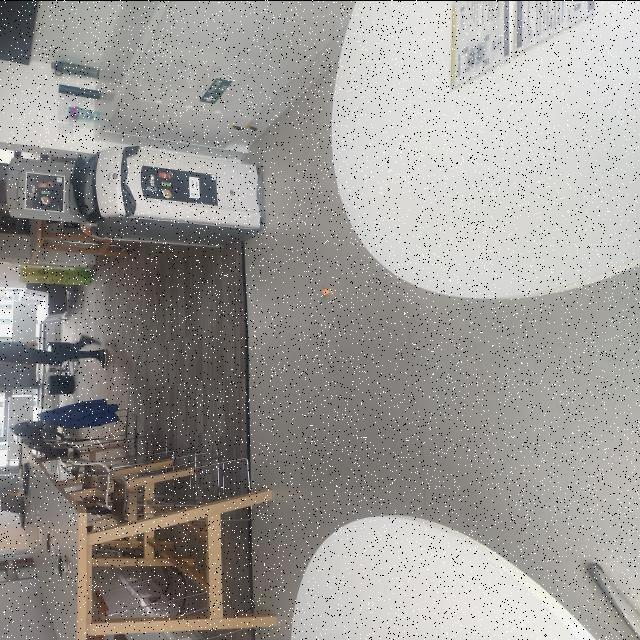ping-pong-ball: (321, 288, 331, 294)
